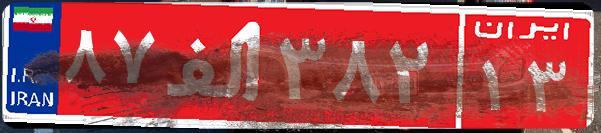1: (475, 38, 525, 113)
2: (385, 28, 445, 110)
3: (273, 28, 330, 110), (525, 38, 570, 115)
7: (110, 28, 158, 105)
8: (330, 28, 385, 110), (57, 26, 110, 107)
الف: (158, 15, 273, 115)
